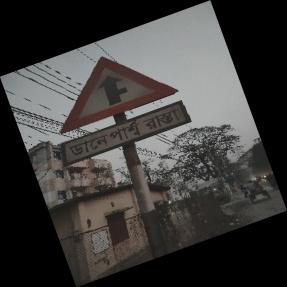Side-road-right: (58, 55, 186, 165)
